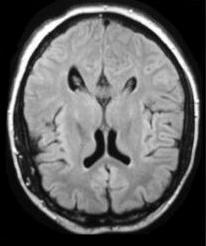Normal_Brain: (1, 1, 206, 246)
